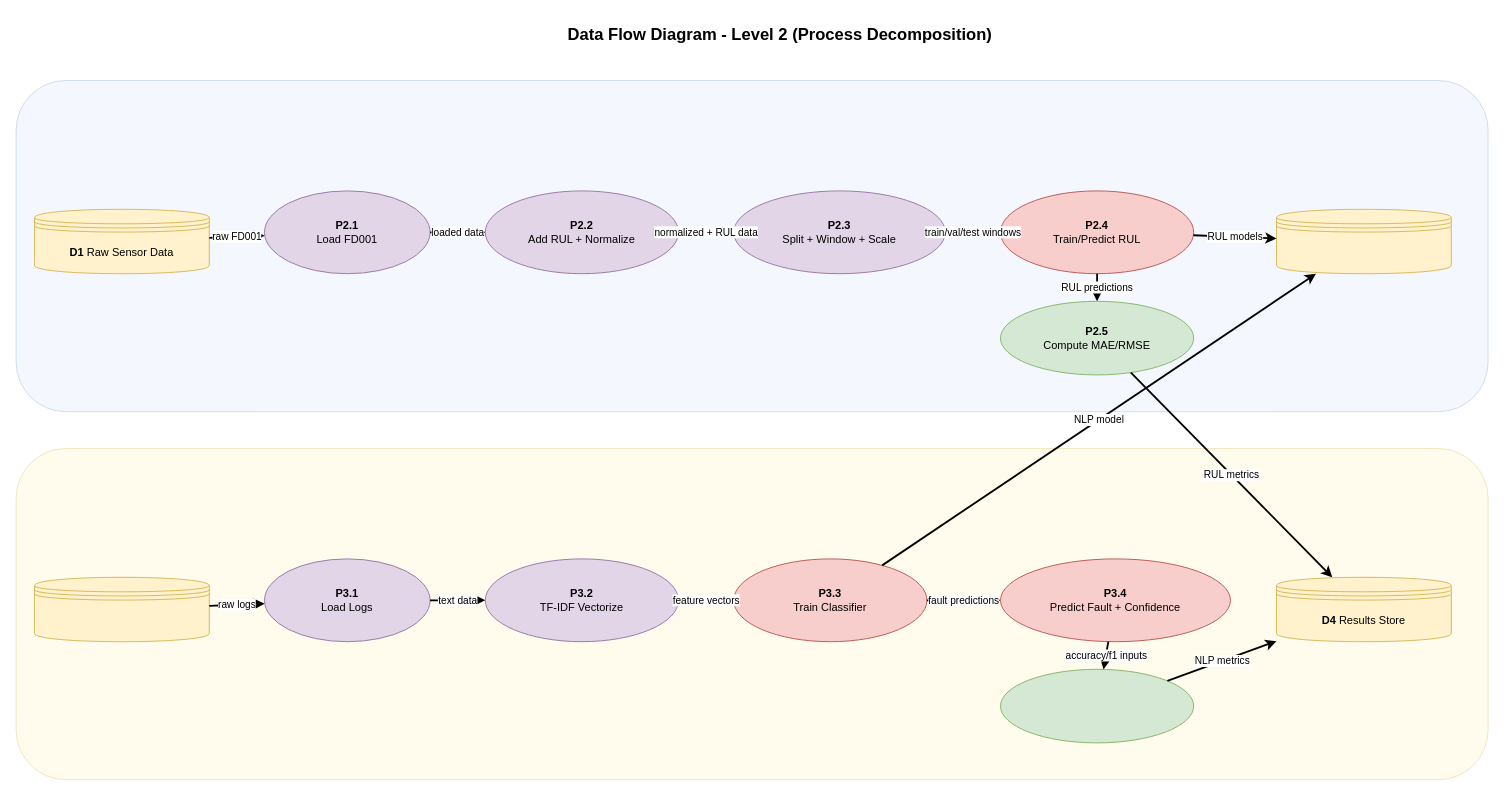
The diagram is 1504 pixels wide and 796 high, and some of its shapes have lost their labels. The shapes that lost their labels are listed below. From the top down, each one's box as (x1, y1, x2, y2) in pixels, then its label:
(15, 80, 1488, 412): RUL Pipeline
(1276, 208, 1451, 274): D3 Model Store
(34, 576, 209, 642): D2 Maintenance Logs
(15, 448, 1488, 780): NLP Pipeline
(1000, 668, 1194, 743): P3.5 Compute Accuracy/F1
